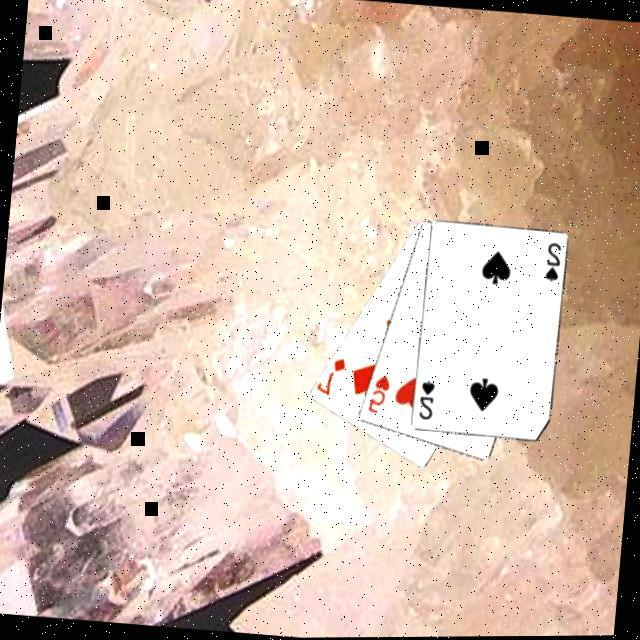2S: (413, 377, 435, 422), (539, 240, 561, 284)
5H: (362, 371, 391, 416)
7D: (311, 352, 347, 399)
